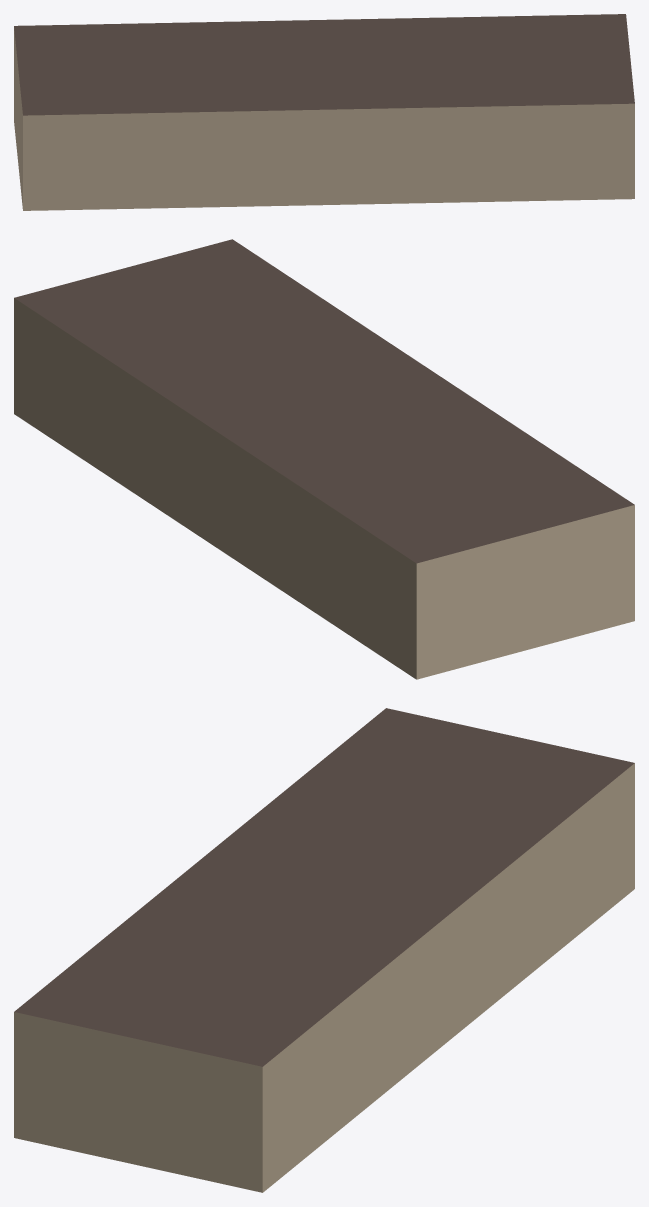
3 views of the same model, one above another, from view 1: azimuth 30°, elevation 25°; view 2: azimuth 150°, elevation 25°; view 3: azimuth 270°, elevation 25° (orthographic). The views are drawn at different scales.
Parts seen in each view (by area): view 1: HP-w369549462; view 2: HP-w369549462; view 3: HP-w369549462.
Boxes of the visible parts, x1=… form: HP-w369549462: x1=14, y1=14, x2=634, y2=210; HP-w369549462: x1=14, y1=239, x2=634, y2=679; HP-w369549462: x1=14, y1=708, x2=634, y2=1192.
Bounding box in the file's own units: 54.93 × 9 × 40.18.
